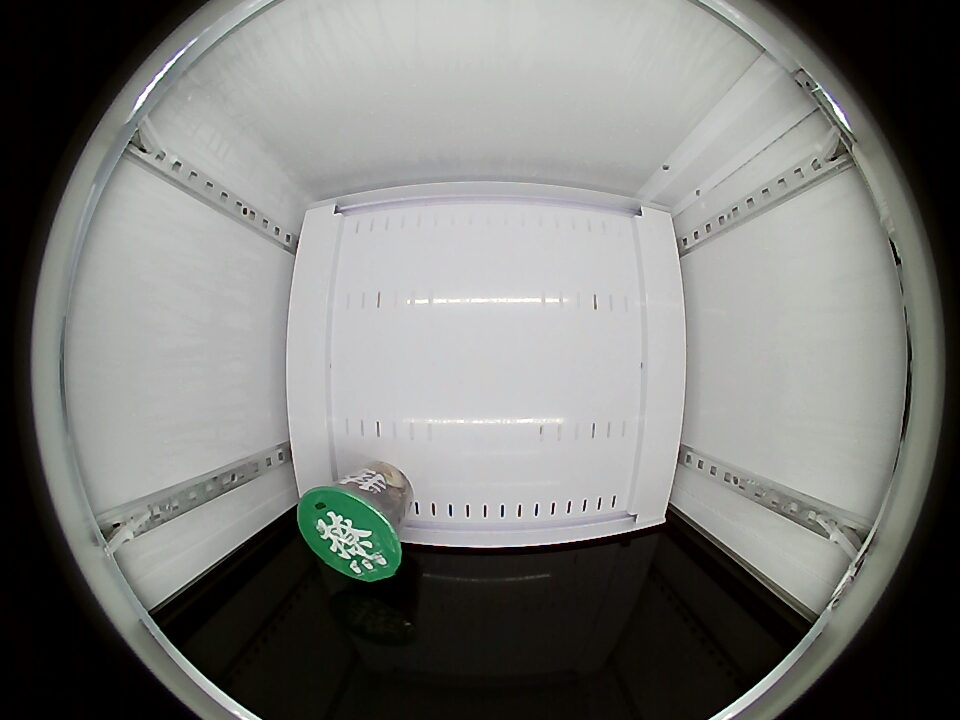liaomian: (297, 480, 405, 581)
